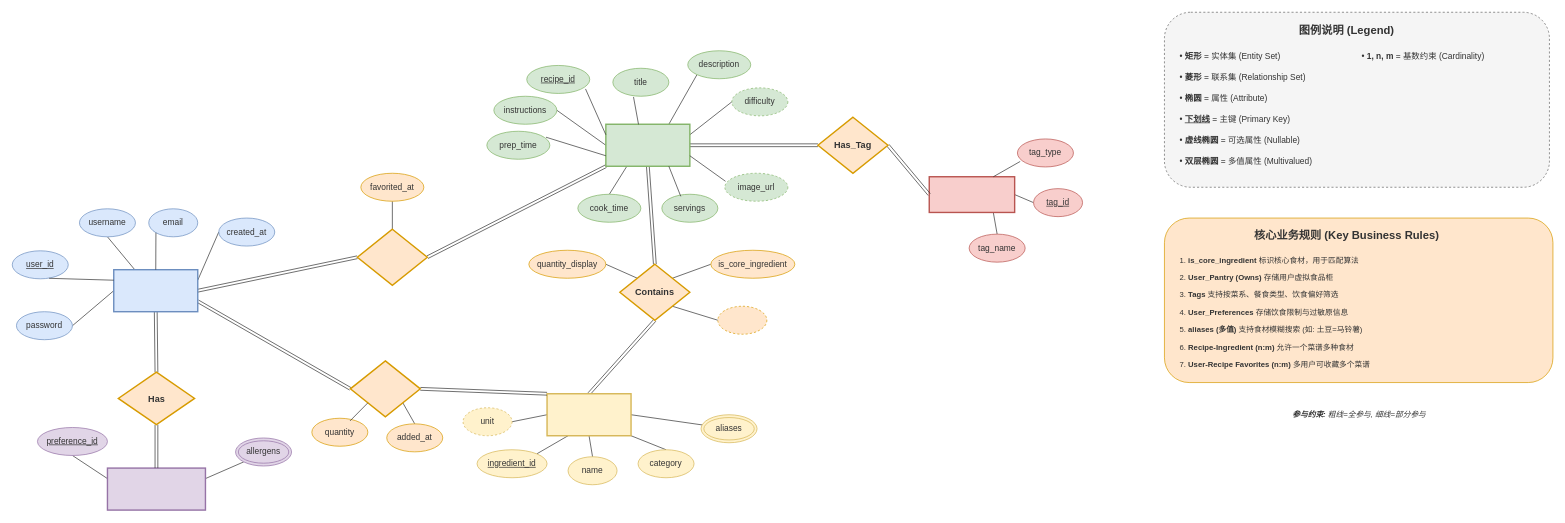
The diagram is 1565 pixels wide and 523 high, and some of its shapes have lost their labels. The shapes that lost their labels are listed below. From the top down, each one's box as (x1, y1, x2, y2) in pixels, then its label:
(605, 123, 690, 167): Recipes
(928, 176, 1015, 213): Tags
(356, 228, 428, 286): Favorites
(113, 269, 198, 312): Users
(717, 306, 767, 334): notes
(349, 360, 421, 417): Owns
(546, 393, 631, 436): Ingredients
(106, 467, 206, 510): User_Preferences
